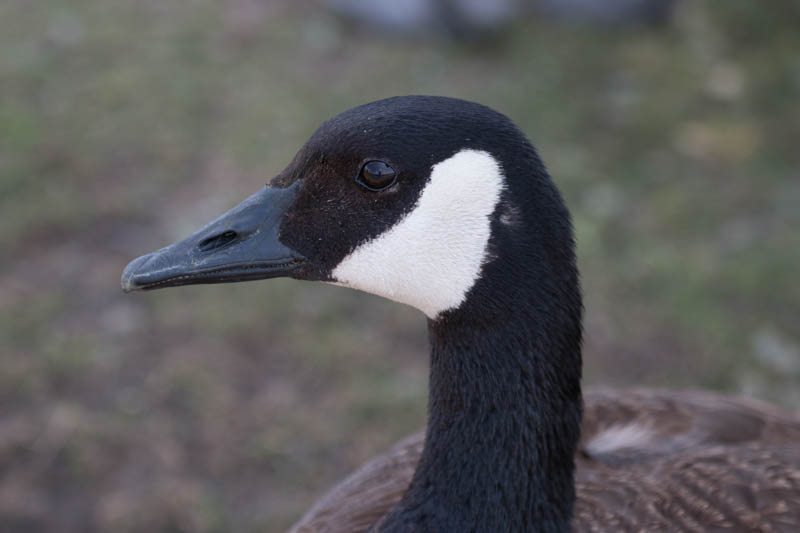goose-head: (119, 94, 583, 321)
